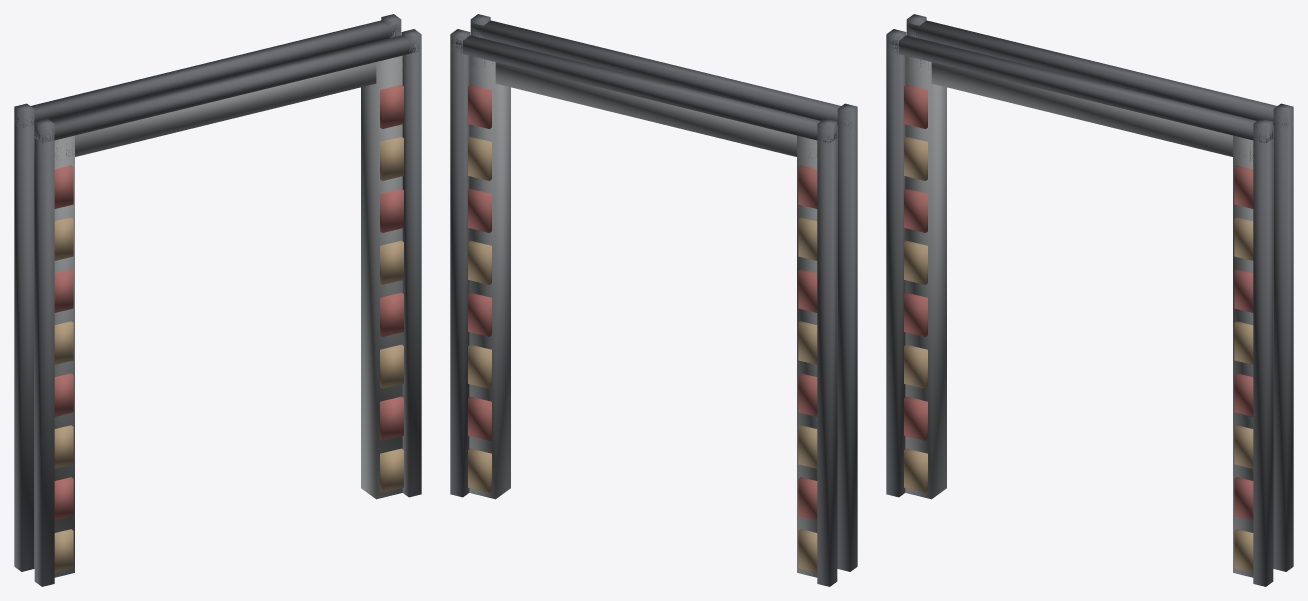
File: doorway_brick_return_w182_h240_d16.glb
3 views of the same model, side by side, from view 1: azimuth 30°, elevation 25°; view 2: azimuth 150°, elevation 25°; view 3: azimuth 330°, elevation 25° (orthographic).
Visible parts, largest first — view 1: world; view 2: world; view 3: world.
Boxes of the visible parts, x1,y1,x2,y2 form: world: (14, 14, 421, 586); world: (450, 14, 857, 586); world: (886, 14, 1293, 586).
Bounding box in the file's own units: 2.29 × 2.66 × 0.2906.
